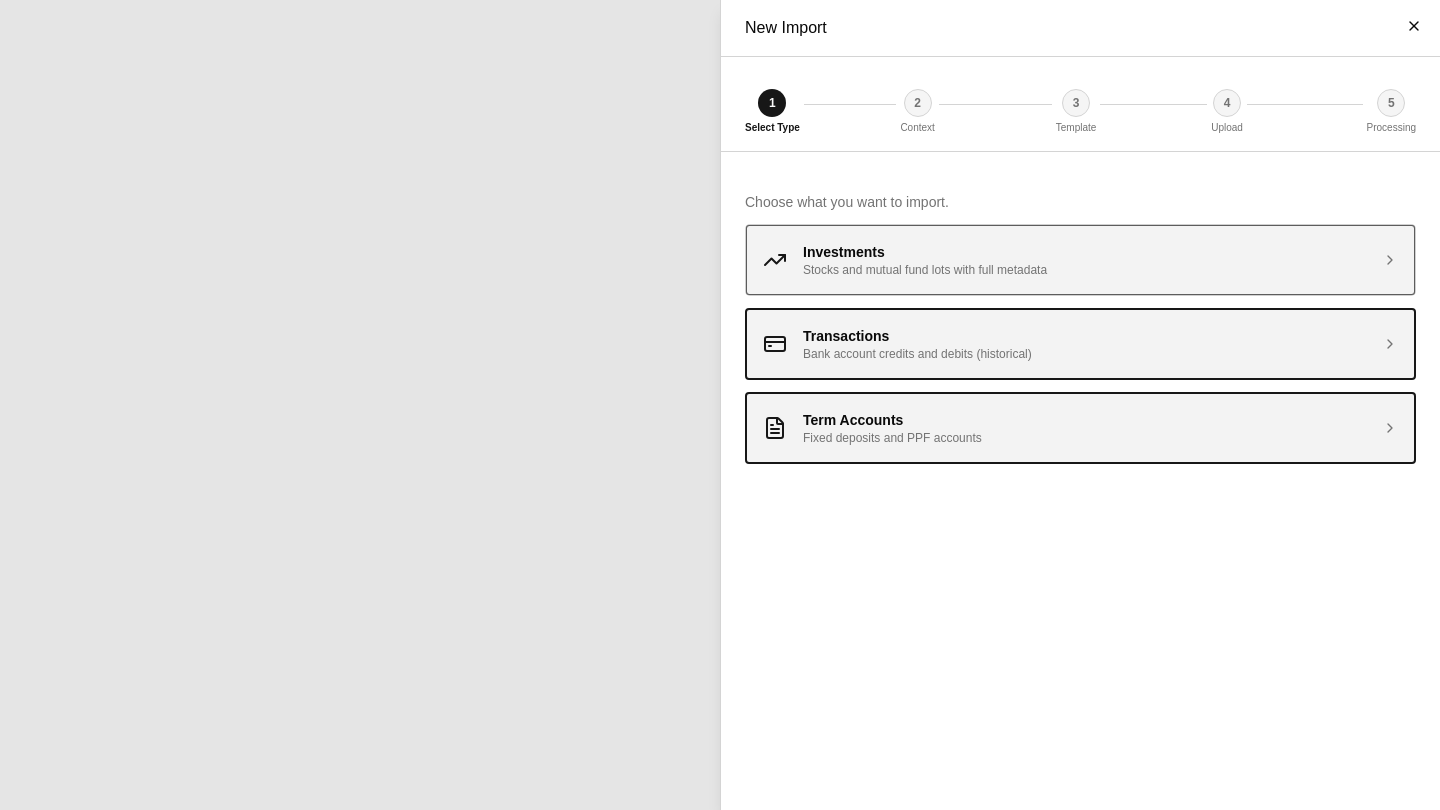
ImportWizard – Step 1: Select Type › clicking "Investments" advances to step 2 (Context)
The width and height of the screenshot is (1440, 810).
Click the text "Investments" at (844, 252), box [803,244,885,260]
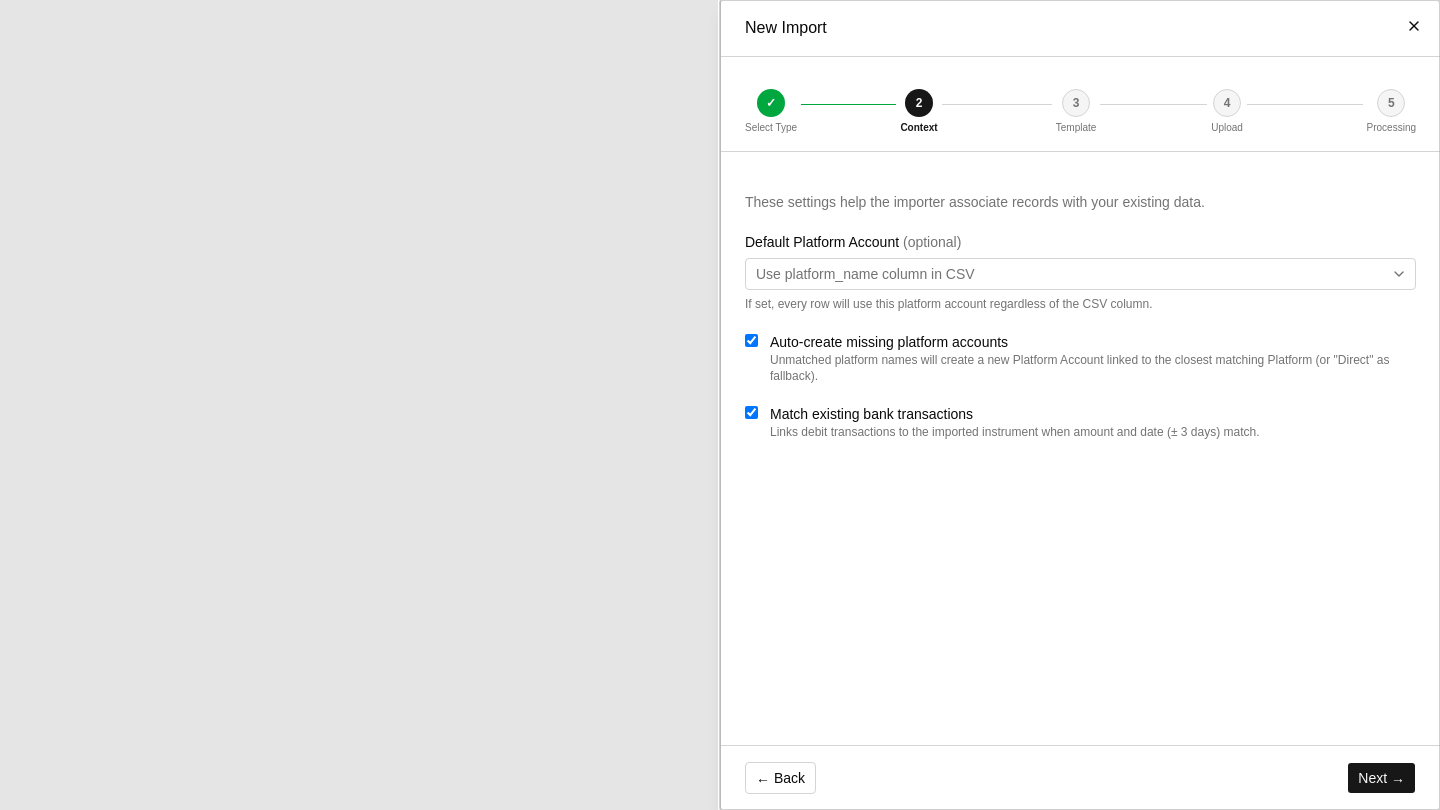
Expected: the text "Default Platform Account (optional)" is shown, [745,234,961,250]
